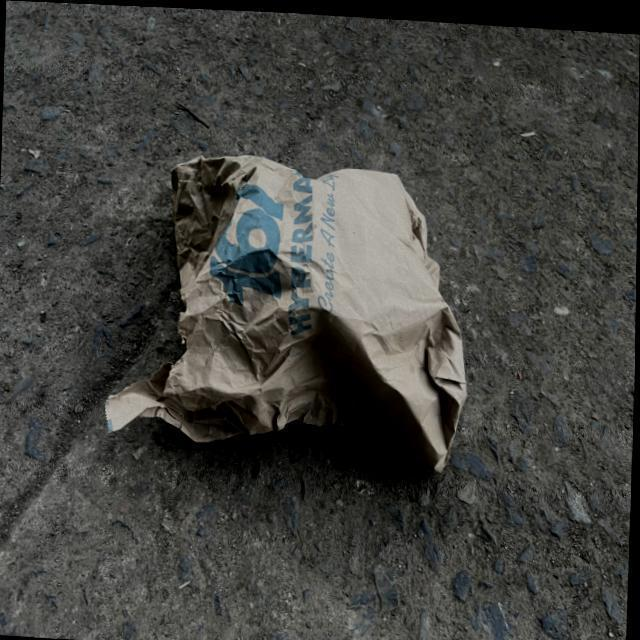Paper_Bag: (109, 148, 472, 480)
